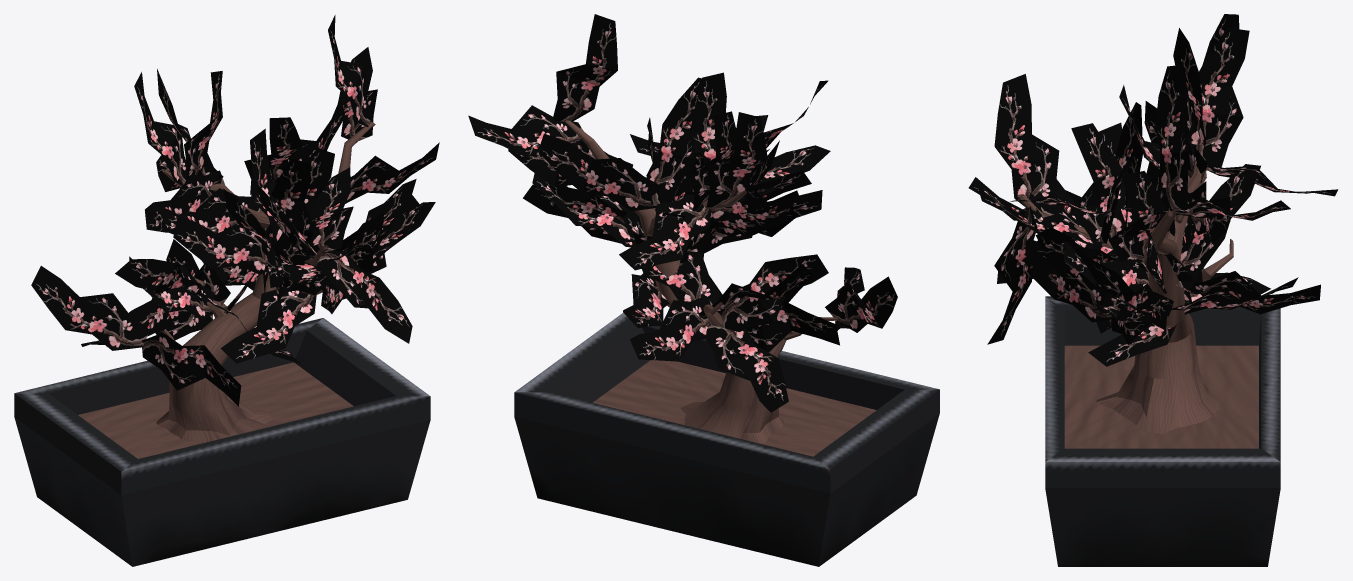
The model's file is Bonsai_Comp.fbx.
The picture shows the model from 3 angles, left to right: view 1: azimuth 30°, elevation 25°; view 2: azimuth 150°, elevation 25°; view 3: azimuth 270°, elevation 25°; orthographic projection. The views are drawn at different scales.
Visible parts, largest first — view 1: Arbol.003, Arbol.003|rama01.001|Dupli|12, Arbol.003|rama01.001|Dupli|41, Arbol.003|rama01.001|Dupli|25, Arbol.003|rama01.001|Dupli|20, Arbol.003|rama01.001|Dupli|11, Arbol.003|rama01.001|Dupli|27, Arbol.003|rama01.001|Dupli|23, Arbol.003|rama01.001|Dupli|2, Arbol.003|rama01.001|Dupli|8, Arbol.003|rama01.001|Dupli|30, Arbol.003|rama01.001|Dupli|6 (+24 smaller); view 2: Arbol.003, Arbol.003|rama01.001|Dupli|28, Arbol.003|rama01.001|Dupli|3, Arbol.003|rama01.001|Dupli|31, Arbol.003|rama01.001|Dupli|7, Arbol.003|rama01.001|Dupli|29, Arbol.003|rama01.001|Dupli|30, Arbol.003|rama01.001|Dupli|8, Arbol.003|rama01.001|Dupli|33, Arbol.003|rama01.001|Dupli|4, Arbol.003|rama01.001|Dupli|12, Arbol.003|rama01.001|Dupli|6 (+13 smaller); view 3: Arbol.003, Arbol.003|rama01.001|Dupli|26, Arbol.003|rama01.001|Dupli|10, Arbol.003|rama01.001|Dupli|3, Arbol.003|rama01.001|Dupli|23, Arbol.003|rama01.001|Dupli|13, Arbol.003|rama01.001|Dupli|25, Arbol.003|rama01.001|Dupli|, Arbol.003|rama01.001|Dupli|40, Arbol.003|rama01.001|Dupli|42, Arbol.003|rama01.001|Dupli|33, Arbol.003|rama01.001|Dupli|36 (+20 smaller).
Part boxes in pixels (x1,y1,x2,y2): Arbol.003: (14, 121, 430, 566); Arbol.003|rama01.001|Dupli|12: (31, 266, 149, 350); Arbol.003|rama01.001|Dupli|41: (221, 289, 316, 363); Arbol.003|rama01.001|Dupli|25: (316, 251, 412, 343); Arbol.003|rama01.001|Dupli|20: (173, 216, 274, 274); Arbol.003|rama01.001|Dupli|11: (141, 333, 241, 406); Arbol.003|rama01.001|Dupli|27: (309, 167, 353, 252); Arbol.003|rama01.001|Dupli|23: (271, 158, 314, 253); Arbol.003|rama01.001|Dupli|2: (345, 142, 439, 203); Arbol.003|rama01.001|Dupli|8: (134, 72, 187, 185); Arbol.003|rama01.001|Dupli|30: (115, 259, 201, 299); Arbol.003|rama01.001|Dupli|6: (145, 170, 224, 232); Arbol.003: (514, 120, 939, 566); Arbol.003|rama01.001|Dupli|28: (538, 133, 662, 211); Arbol.003|rama01.001|Dupli|3: (552, 14, 617, 121); Arbol.003|rama01.001|Dupli|31: (705, 324, 788, 412); Arbol.003|rama01.001|Dupli|7: (619, 194, 711, 270); Arbol.003|rama01.001|Dupli|29: (646, 77, 701, 205); Arbol.003|rama01.001|Dupli|30: (719, 254, 828, 331); Arbol.003|rama01.001|Dupli|8: (706, 112, 767, 207); Arbol.003|rama01.001|Dupli|33: (630, 296, 712, 361); Arbol.003|rama01.001|Dupli|4: (468, 105, 583, 157); Arbol.003|rama01.001|Dupli|12: (825, 276, 897, 332); Arbol.003|rama01.001|Dupli|6: (687, 184, 822, 229); Arbol.003: (1017, 164, 1280, 566); Arbol.003|rama01.001|Dupli|26: (994, 74, 1059, 216); Arbol.003|rama01.001|Dupli|10: (1187, 27, 1249, 172); Arbol.003|rama01.001|Dupli|3: (1155, 65, 1189, 210); Arbol.003|rama01.001|Dupli|23: (1071, 123, 1125, 249); Arbol.003|rama01.001|Dupli|13: (1108, 171, 1166, 264); Arbol.003|rama01.001|Dupli|25: (987, 206, 1037, 344); Arbol.003|rama01.001|Dupli|: (1176, 164, 1260, 289); Arbol.003|rama01.001|Dupli|40: (1036, 227, 1134, 297); Arbol.003|rama01.001|Dupli|42: (1029, 240, 1112, 322); Arbol.003|rama01.001|Dupli|33: (1193, 271, 1320, 314); Arbol.003|rama01.001|Dupli|36: (1088, 268, 1208, 366).
Bounding box in the file's own units: 131 × 143 × 97.14.
2 materials, 2 textured.
